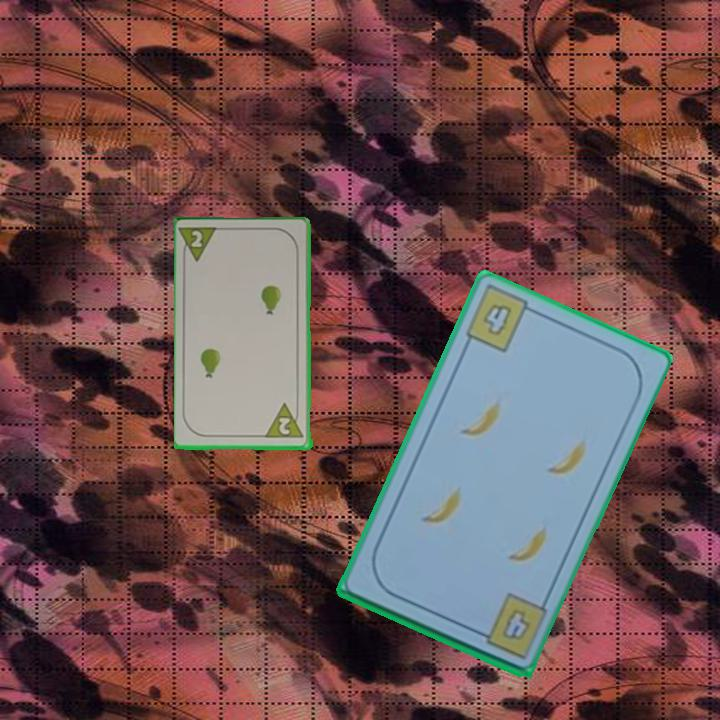2p: (178, 224, 222, 265), (264, 401, 307, 441)
4b: (461, 284, 540, 355), (497, 604, 533, 643)
